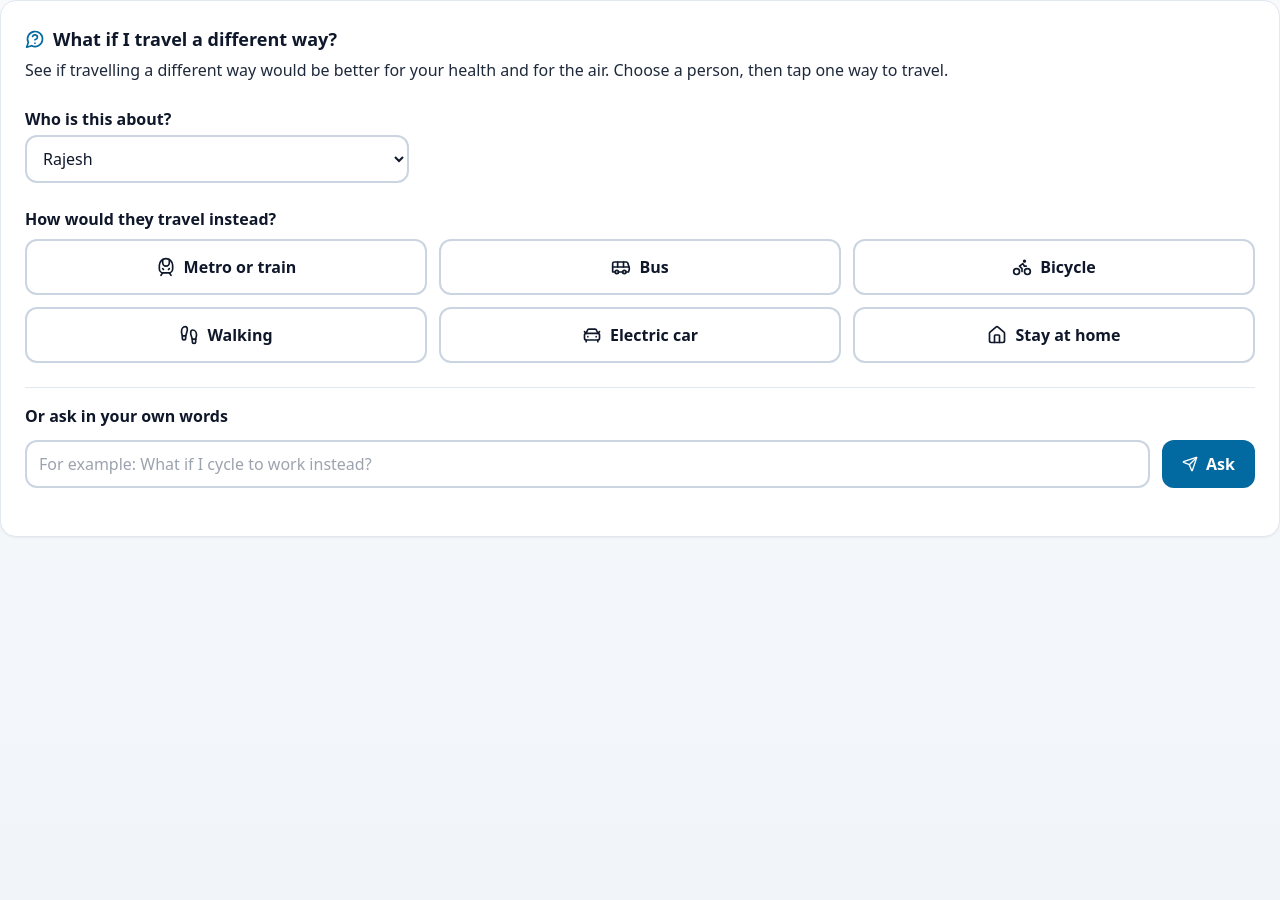
Test: WhatIfPanel › shows the recalculated numbers and the explanation
In the field labelled "Or ask in your own words": (588,464) 25,440 -> 1150,488, type "What if Rajesh took the metro?"
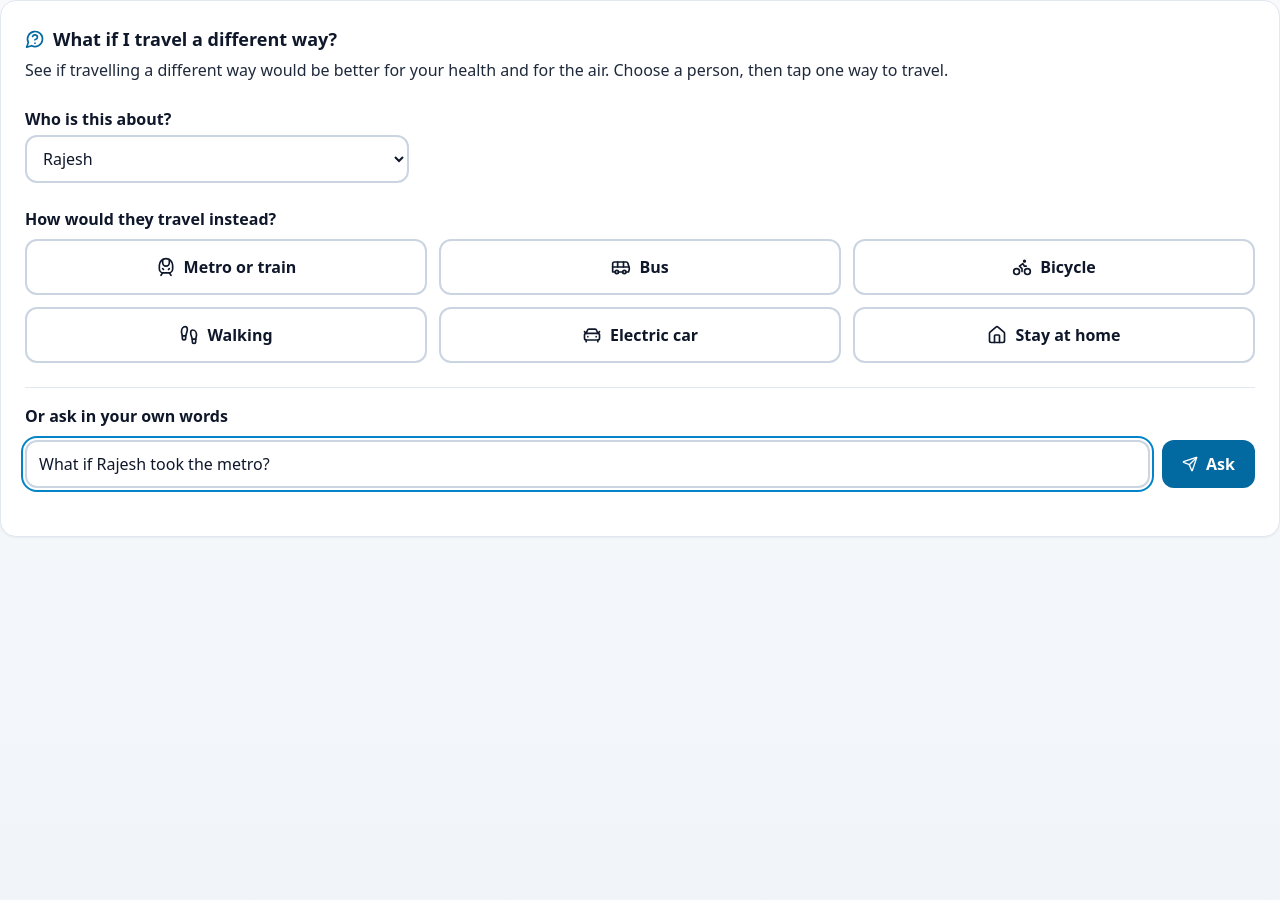
Click the button "Ask": (1209,464) 1162,440 -> 1255,488
(page scrolled)
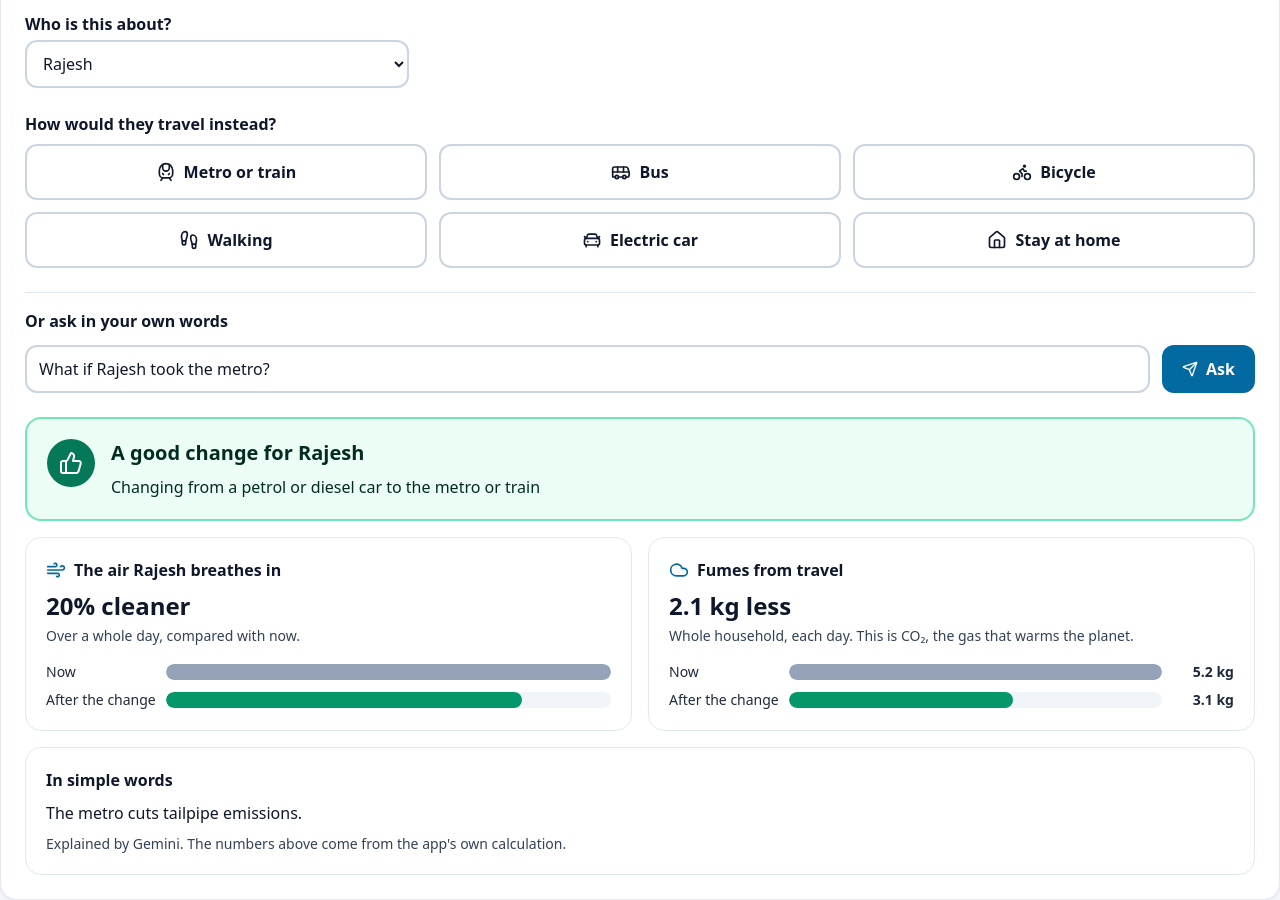
Expected: the heading "A good change for Rajesh" is shown, 111,439 -> 364,466
Expected: the text "The metro cuts tailpipe emissions." is shown, 46,802 -> 302,824
Expected: the text "20% cleaner" is shown, 46,588 -> 190,622
